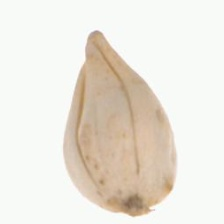L1: (78, 29, 103, 78), (118, 195, 156, 217)
L2: (62, 29, 177, 218)
